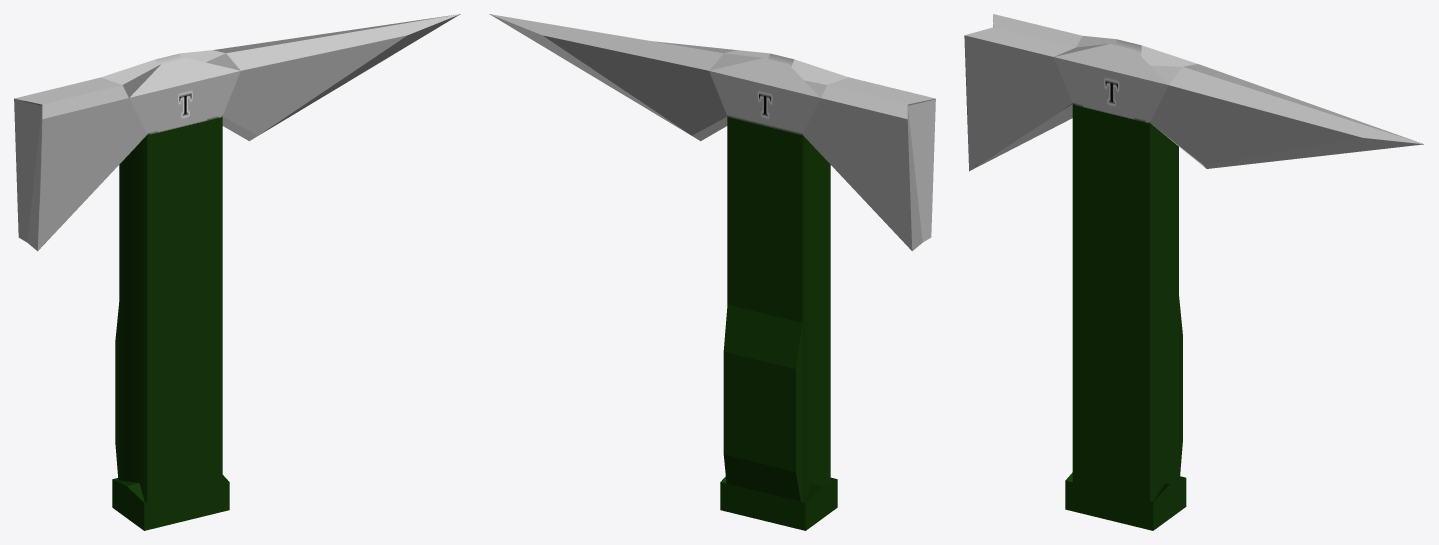
Rendered from axe.obj.
The picture shows the model from 3 angles, left to right: view 1: azimuth 30°, elevation 25°; view 2: azimuth 150°, elevation 25°; view 3: azimuth 330°, elevation 25°; orthographic projection. The views are drawn at different scales.
Visible parts, largest first — view 1: pCube1; view 2: pCube1; view 3: pCube1.
Part boxes in pixels (box(x1,y1,x2,y2)): pCube1: box(14, 14, 460, 530); pCube1: box(489, 14, 935, 530); pCube1: box(964, 14, 1423, 530).
Size of the model in its own units: 2.24 by 2.22 by 0.3172.
Materials: 1 (1 with a texture image).
